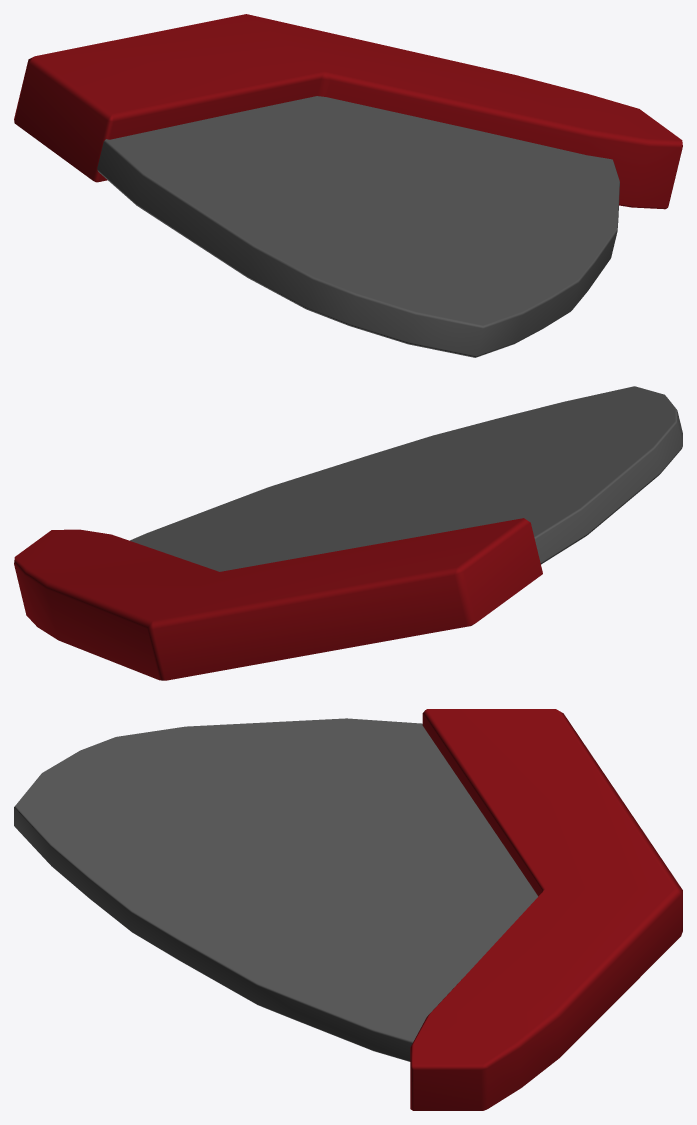
Rendered from Ship_enemy_04_Wing_L.fbx.
3 renders of one model, top to bottom at view 1: azimuth 30°, elevation 25°; view 2: azimuth 150°, elevation 25°; view 3: azimuth 270°, elevation 25°, orthographic. The views are drawn at different scales.
Parts seen in each view (by area): view 1: Ship_enemy_04_Wing_L; view 2: Ship_enemy_04_Wing_L; view 3: Ship_enemy_04_Wing_L.
Boxes of the visible parts, x1=… form: Ship_enemy_04_Wing_L: x1=14, y1=14, x2=682, y2=357; Ship_enemy_04_Wing_L: x1=14, y1=386, x2=682, y2=680; Ship_enemy_04_Wing_L: x1=14, y1=709, x2=682, y2=1110.
Bounding box in the file's own units: 202 × 72.9 × 241.
